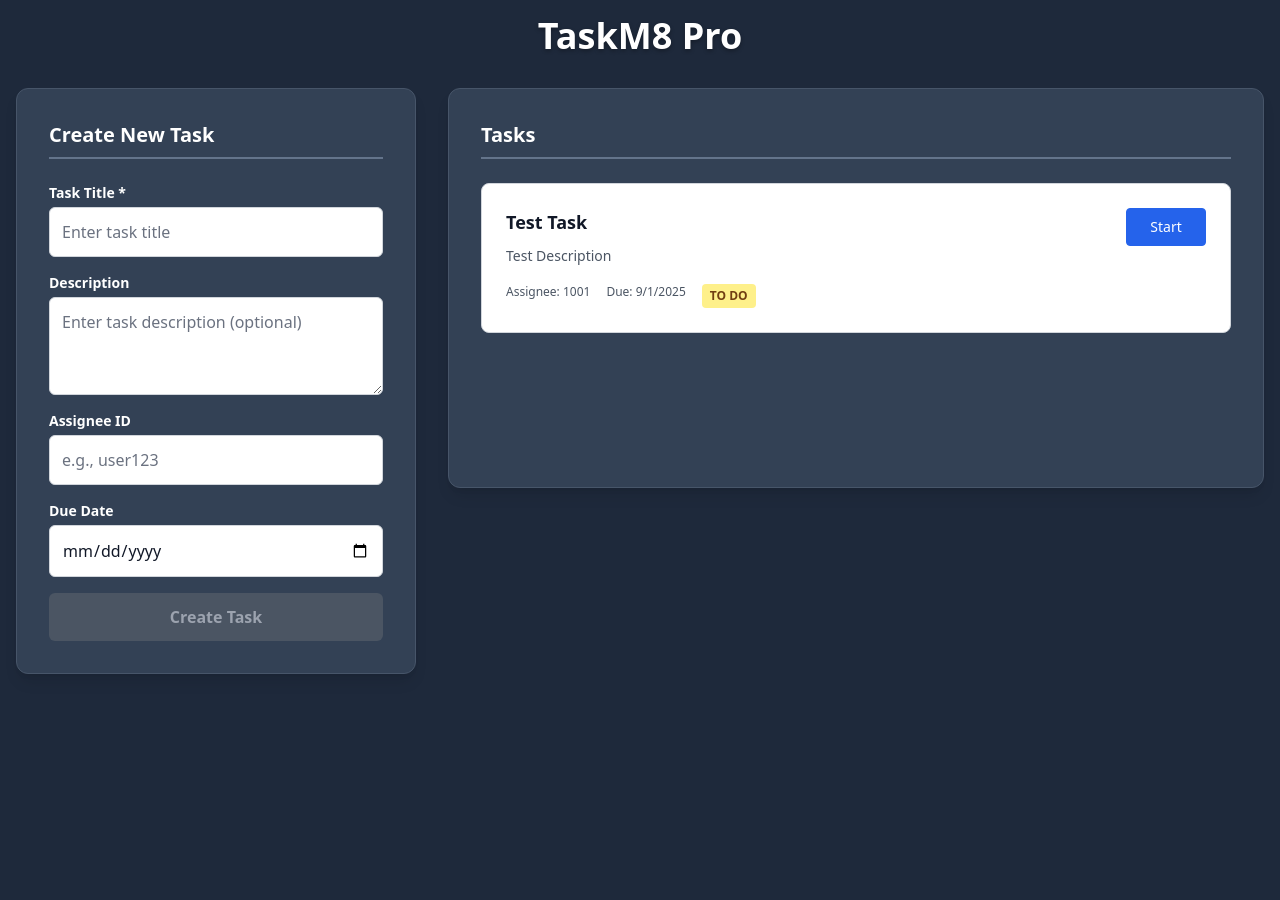
it: App Integration Tests › should create a new task through the form
Check: the heading "Test Task" is shown, box [506,210,587,234]
Type "New Integration Test Task" into the field labelled "Task Title *". click: (216, 232)
box: [49,207,383,257]
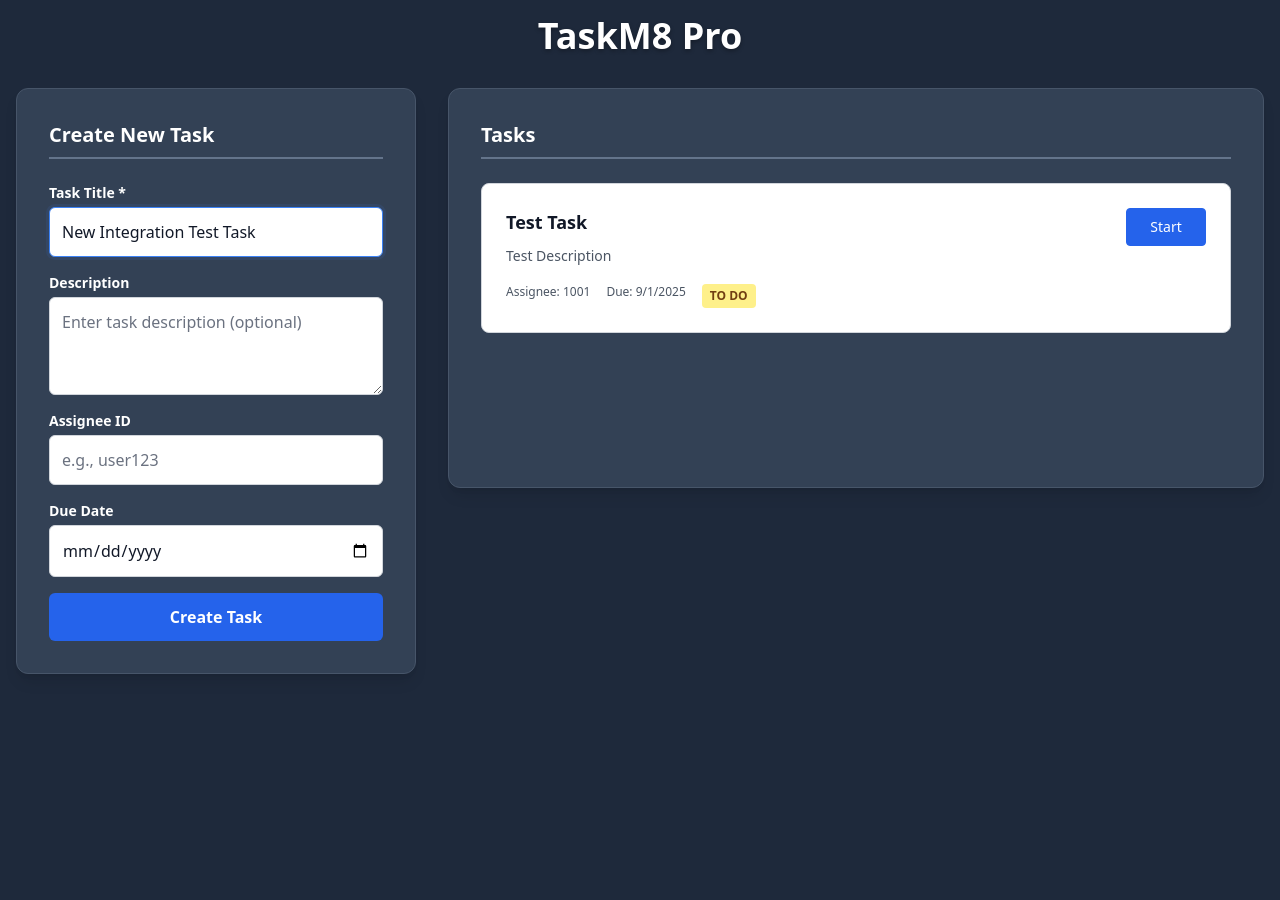
Type "This task was created through integration testing" into the text box labelled "Description". click: (216, 346)
box: [49,297,383,395]
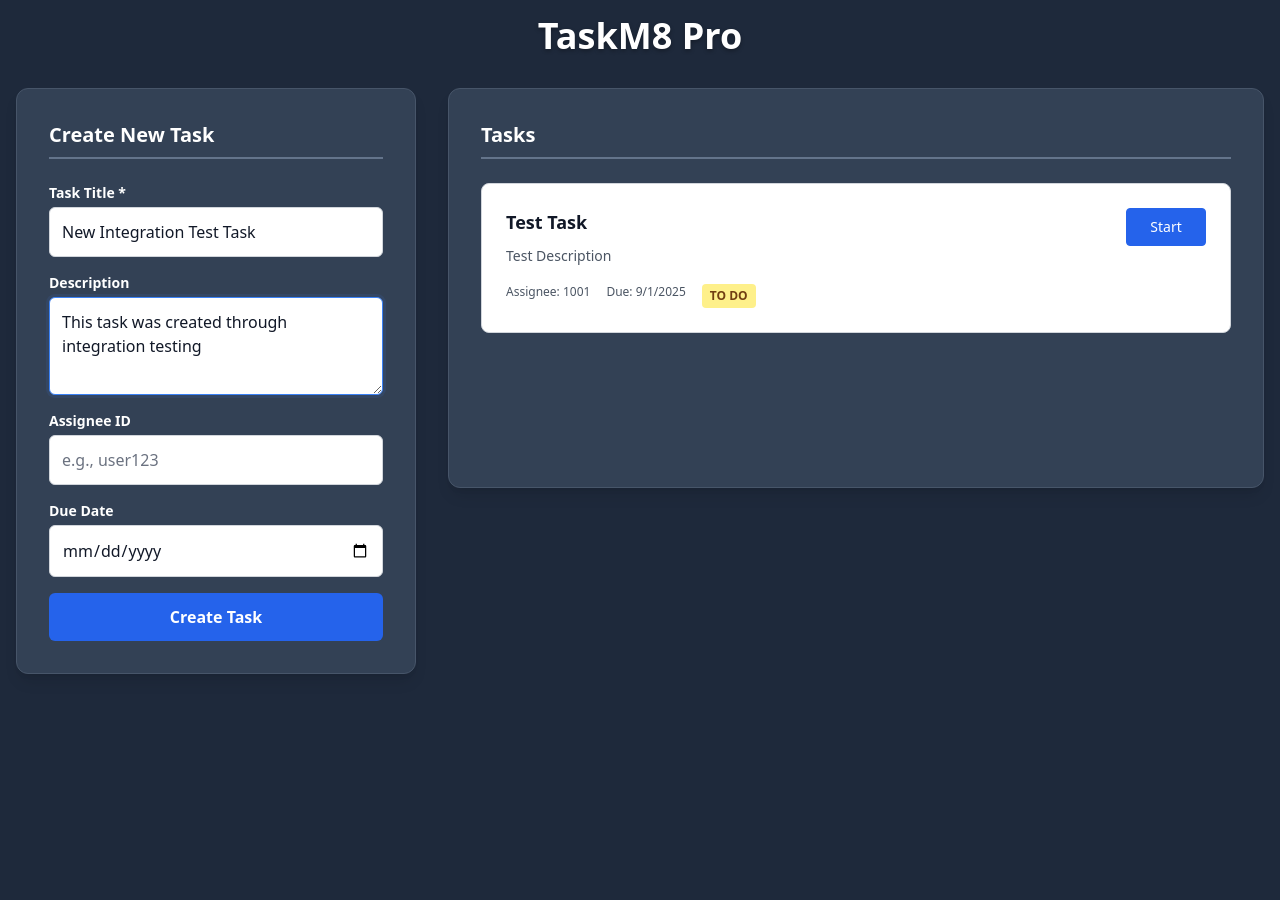
Type "test-user" into the field labelled "Assignee ID". click: (216, 460)
box: [49,435,383,485]
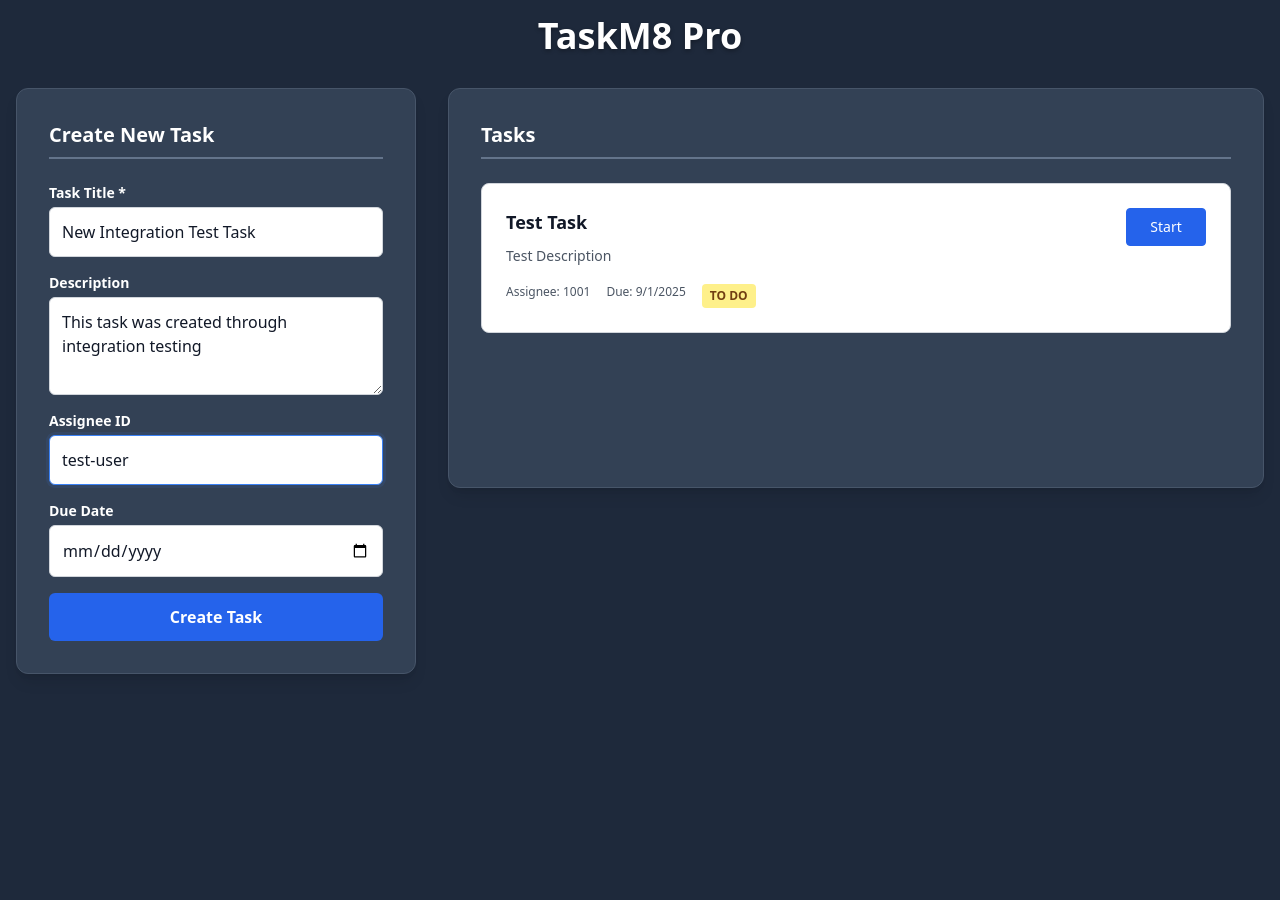
Type "2025-12-01" into the date field labelled "Due Date". click: (216, 551)
box: [49,525,383,577]
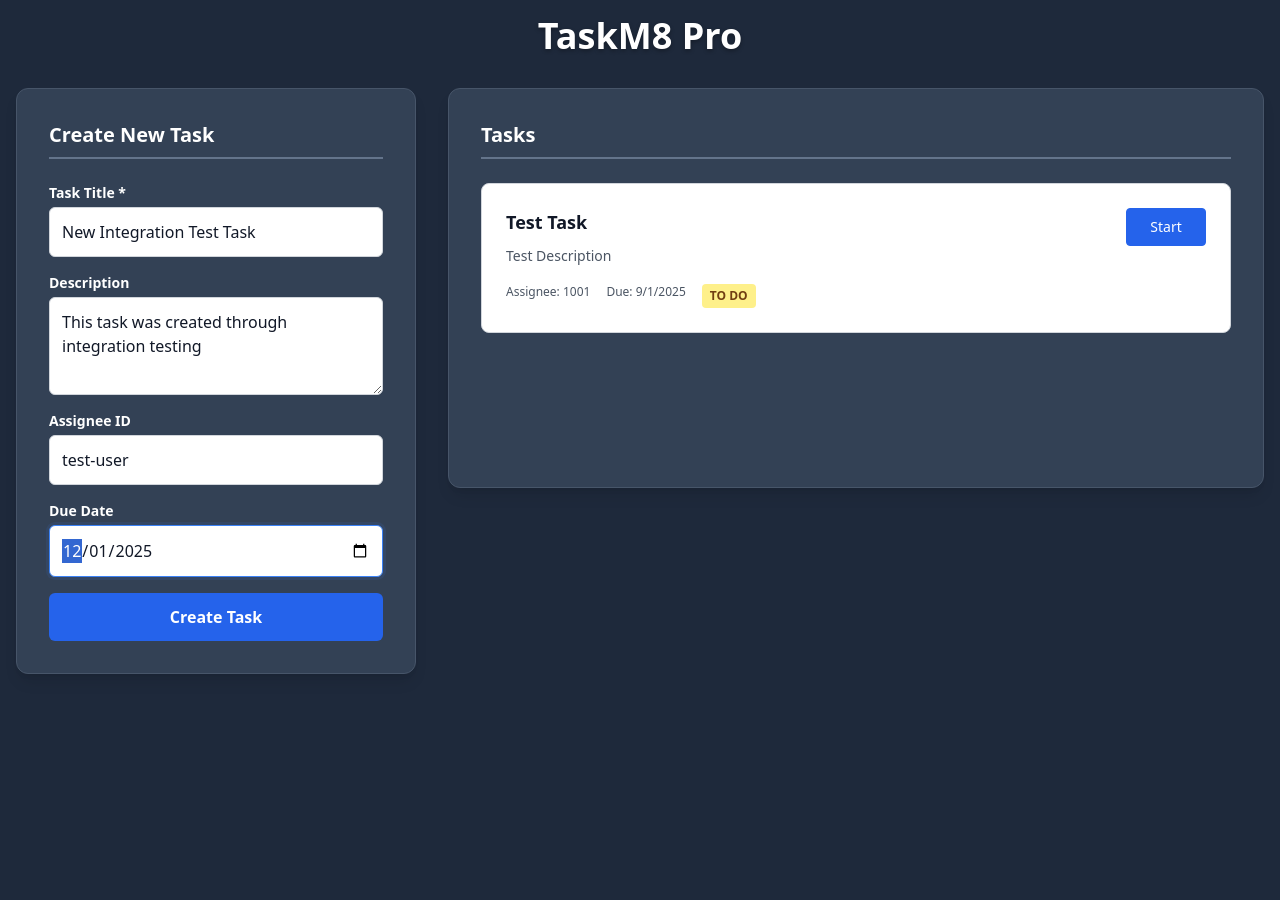
Submit the form
Click the button "Create Task". click: (216, 617)
box: [49,593,383,641]
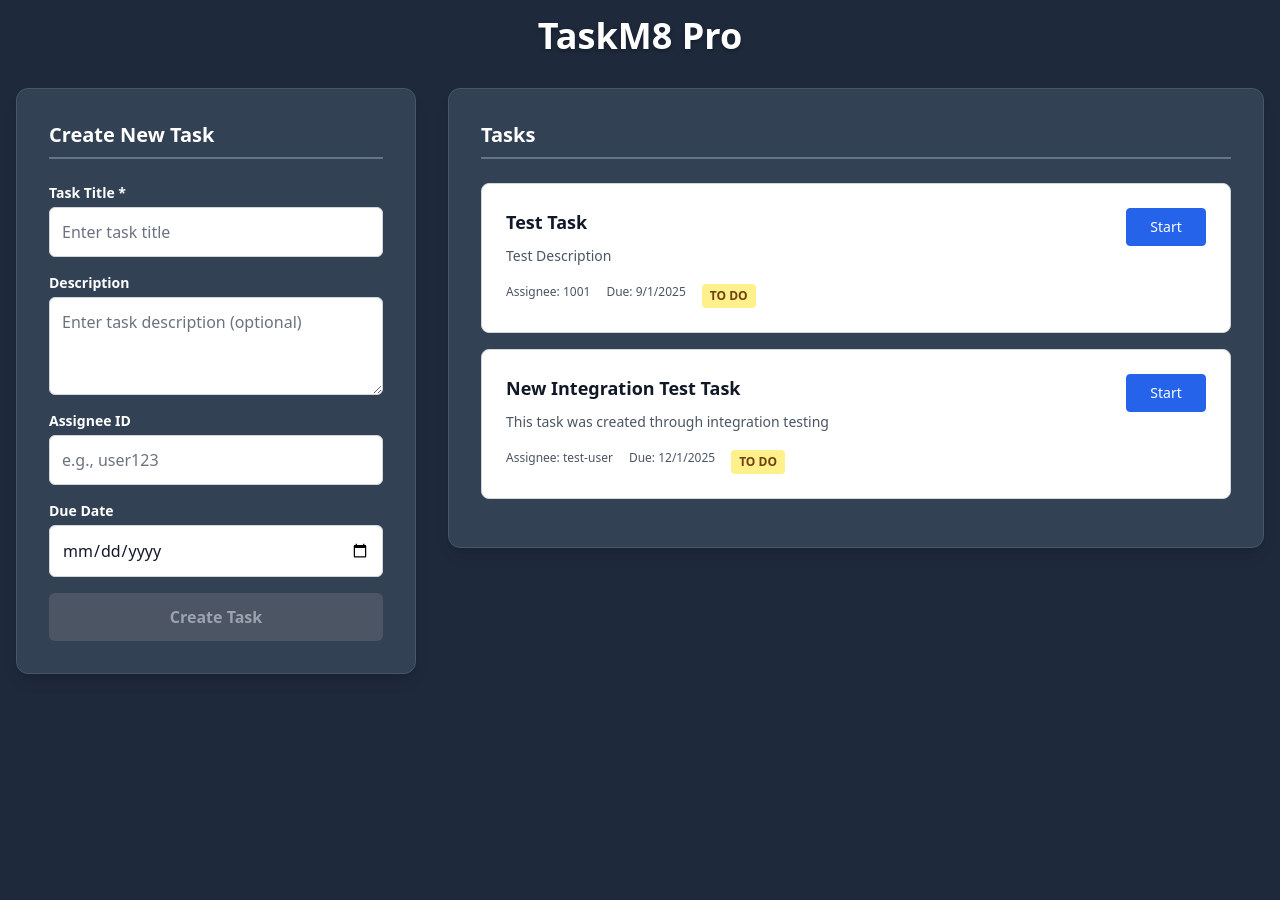
Check: the heading "New Integration Test Task" is shown, box [506,376,740,400]
Check: the text "This task was created through integration testing" is shown, box [506,412,829,431]
